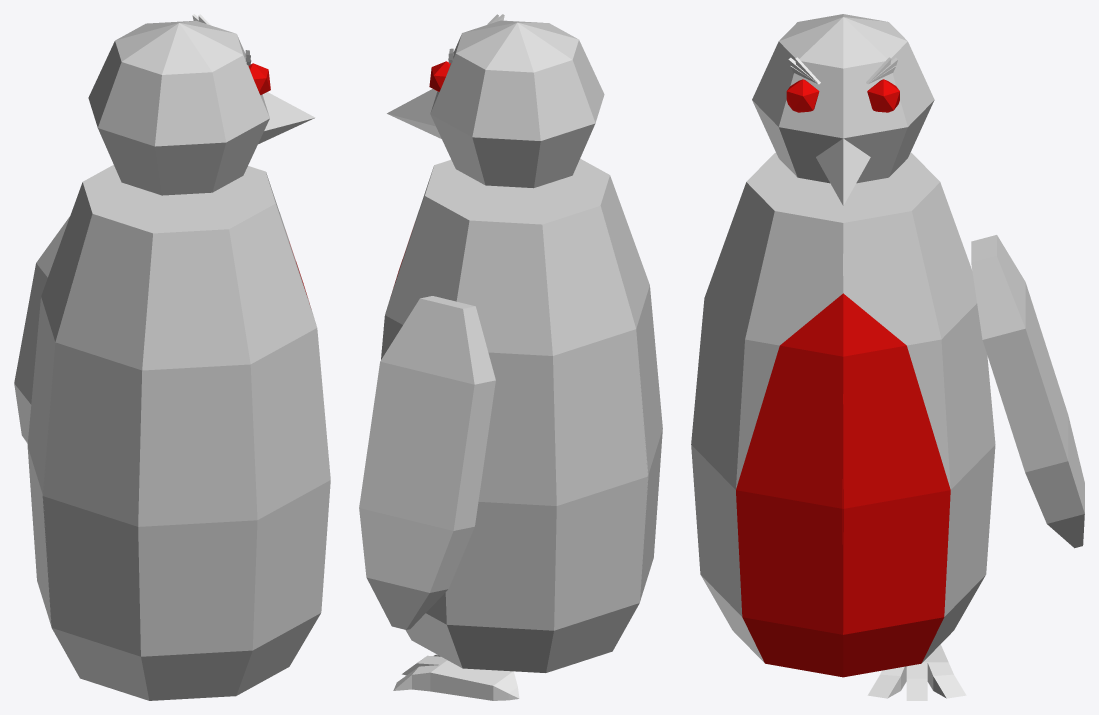
The model's file is Penguin.fbx.
The picture shows the model from 3 angles, left to right: view 1: azimuth 30°, elevation 25°; view 2: azimuth 150°, elevation 25°; view 3: azimuth 270°, elevation 25°; orthographic projection. The views are drawn at different scales.
Visible parts, largest first — view 1: Cylinder, Sphere, Cube, Sphere.002; view 2: Cylinder, Cube, Sphere, Cube.002, Sphere.002; view 3: Cylinder, Sphere, Cube, Cube.002, Sphere.002, Cube.001.
Boxes of the visible parts, <box> form: Cylinder: <box>27,164,330,700</box>; Sphere: <box>88,20,270,195</box>; Cube: <box>14,216,69,443</box>; Sphere.002: <box>262,92,315,130</box>; Cylinder: <box>381,158,662,672</box>; Cube: <box>359,296,495,629</box>; Sphere: <box>429,20,604,188</box>; Cube.002: <box>393,654,519,700</box>; Sphere.002: <box>387,89,437,126</box>; Cylinder: <box>691,152,995,677</box>; Sphere: <box>752,14,934,183</box>; Cube: <box>971,235,1084,548</box>; Cube.002: <box>867,644,966,700</box>; Sphere.002: <box>816,138,870,205</box>; Cube.001: <box>788,57,897,84</box>.
Bounding box in the file's own units: 300 × 702 × 387.
